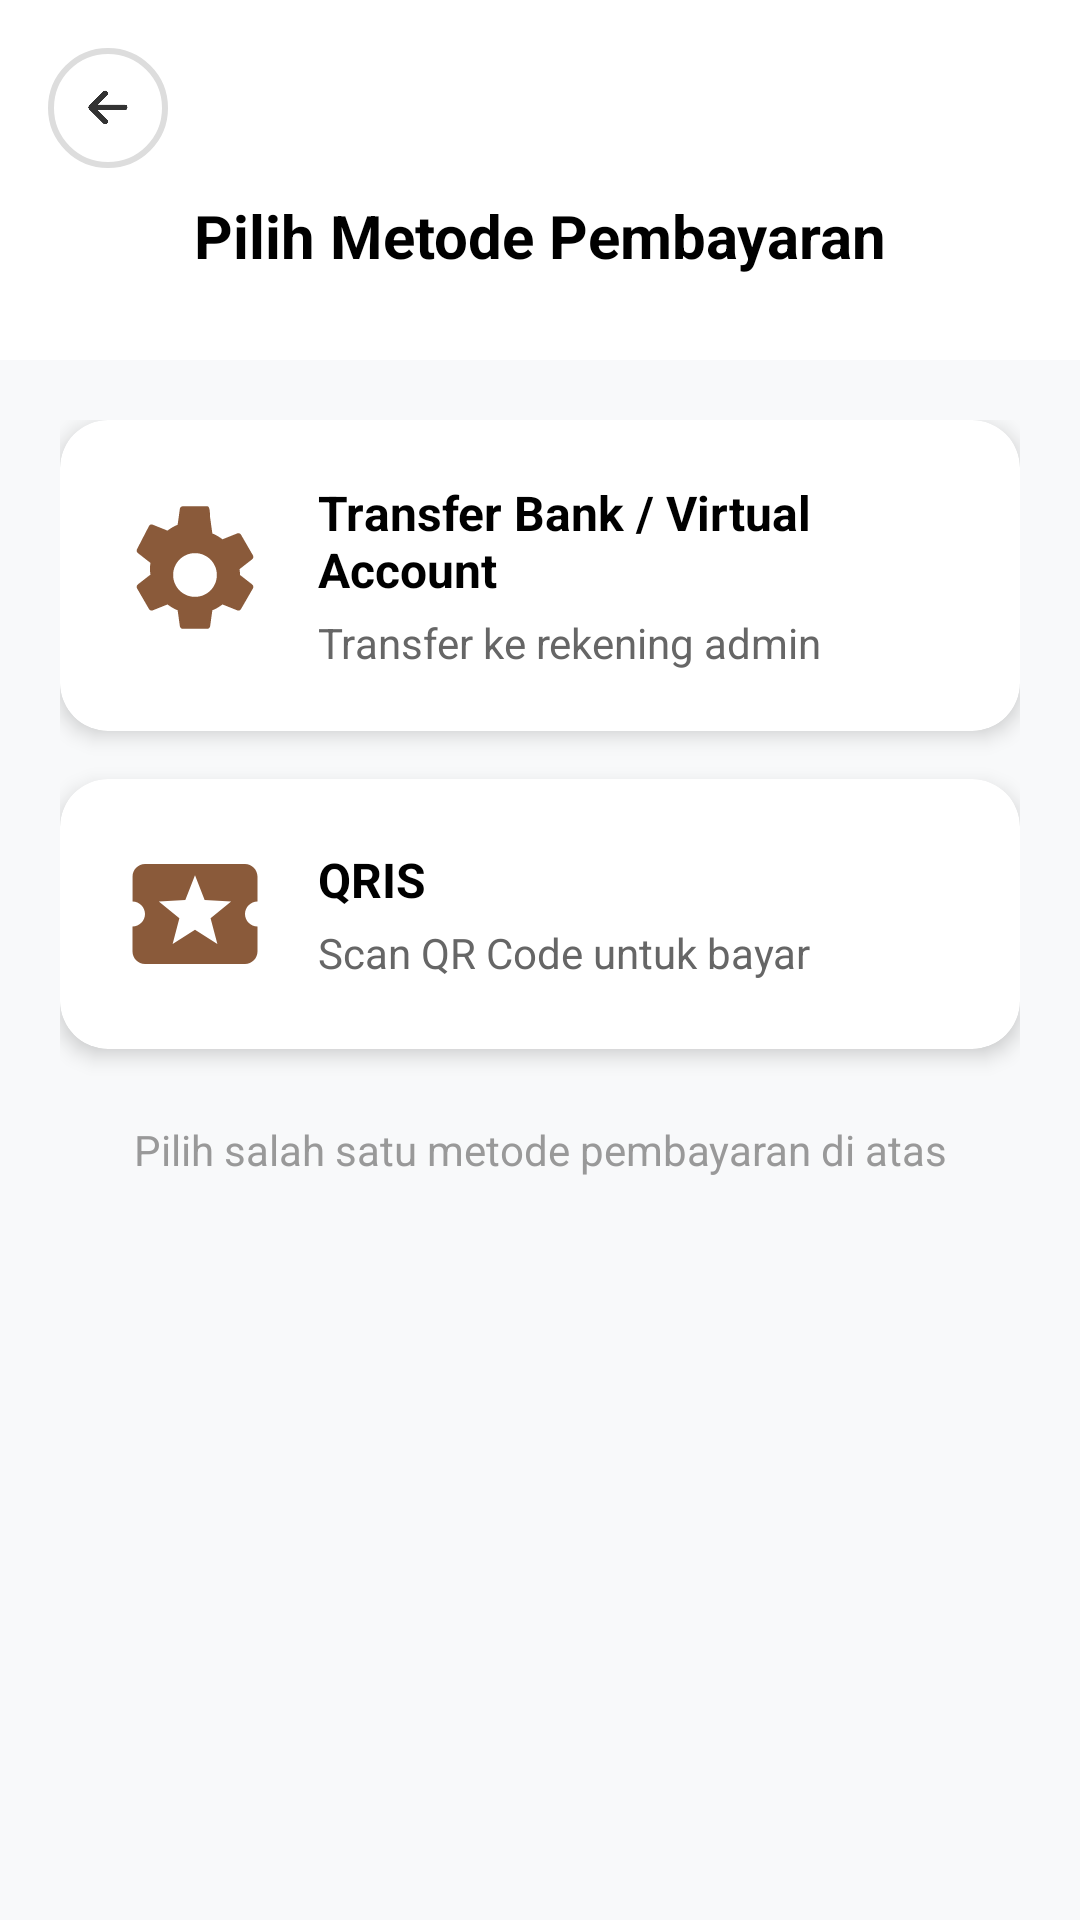

Where icons sit on this 1080 x 1920 app screen, as (x1, y1, x2, y2):
back: (48, 48, 168, 168)
local activity: (132, 864, 258, 964)
setting: (136, 506, 254, 629)
